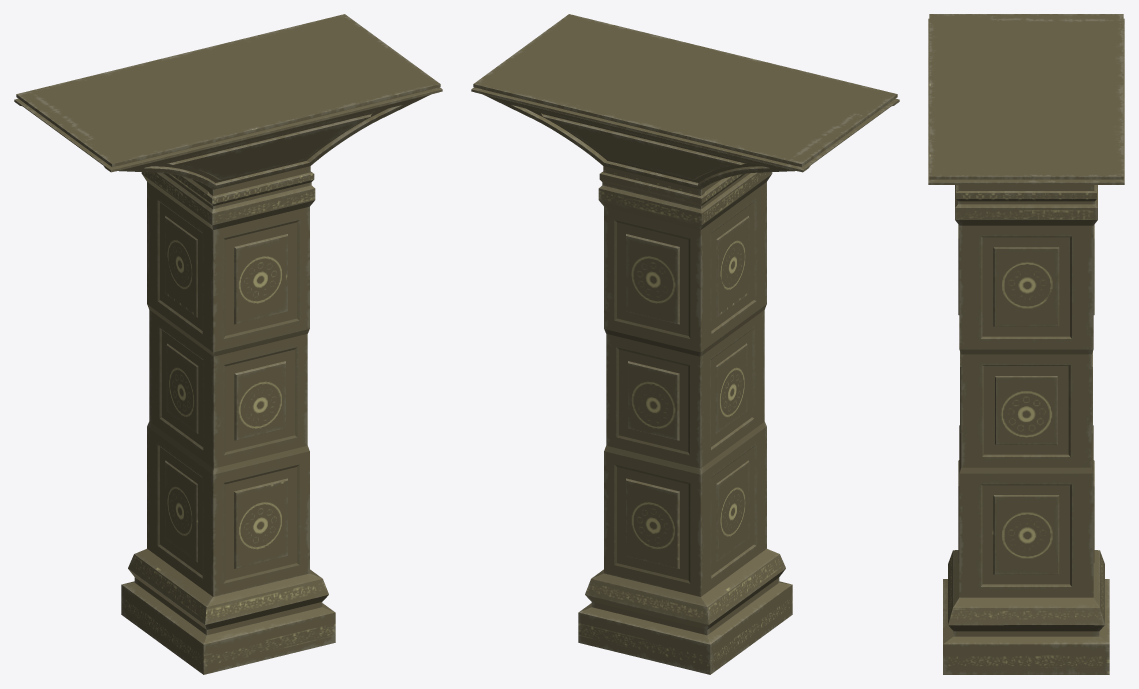
File: SMALL PILLAR A.fbx
The picture shows the model from 3 angles, left to right: view 1: azimuth 30°, elevation 25°; view 2: azimuth 150°, elevation 25°; view 3: azimuth 270°, elevation 25°; orthographic projection.
Parts seen in each view (by area): view 1: SMALL PILLAR A; view 2: SMALL PILLAR A; view 3: SMALL PILLAR A.
Boxes of the visible parts, box(x1,y1,x2,y2) form: SMALL PILLAR A: box(14, 14, 442, 674); SMALL PILLAR A: box(471, 14, 899, 674); SMALL PILLAR A: box(928, 14, 1124, 674).
Bounding box in the file's own units: 7.59 × 11.8 × 3.83.
